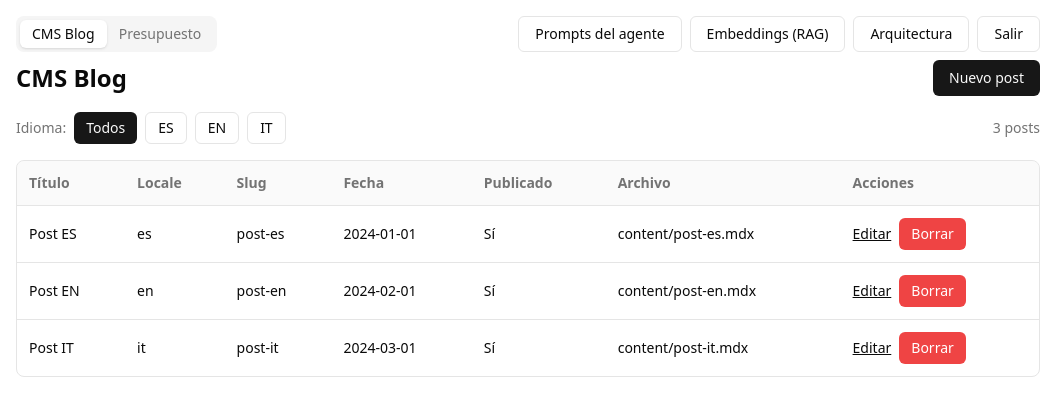
Scenario: AdminDashboardTabs › locale filter › filters to a single locale on click
Click the button "ES": x=166, y=128 [145,112,187,144]
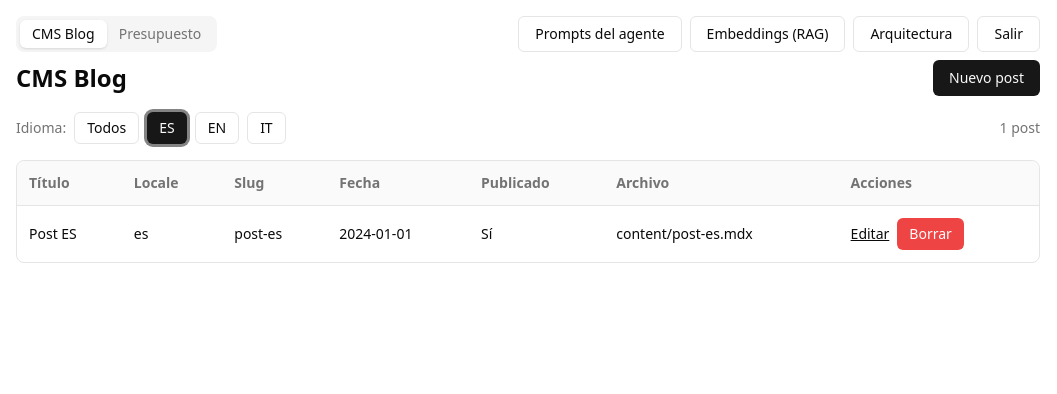
Check: the text "Post EN" is gone
Check: the text "Post IT" is gone
Check: the text "1 post" is shown, box [1000,118,1040,138]
